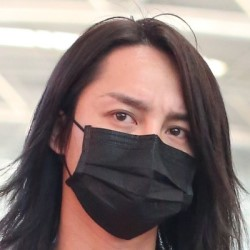mask: (45, 112, 199, 240)
